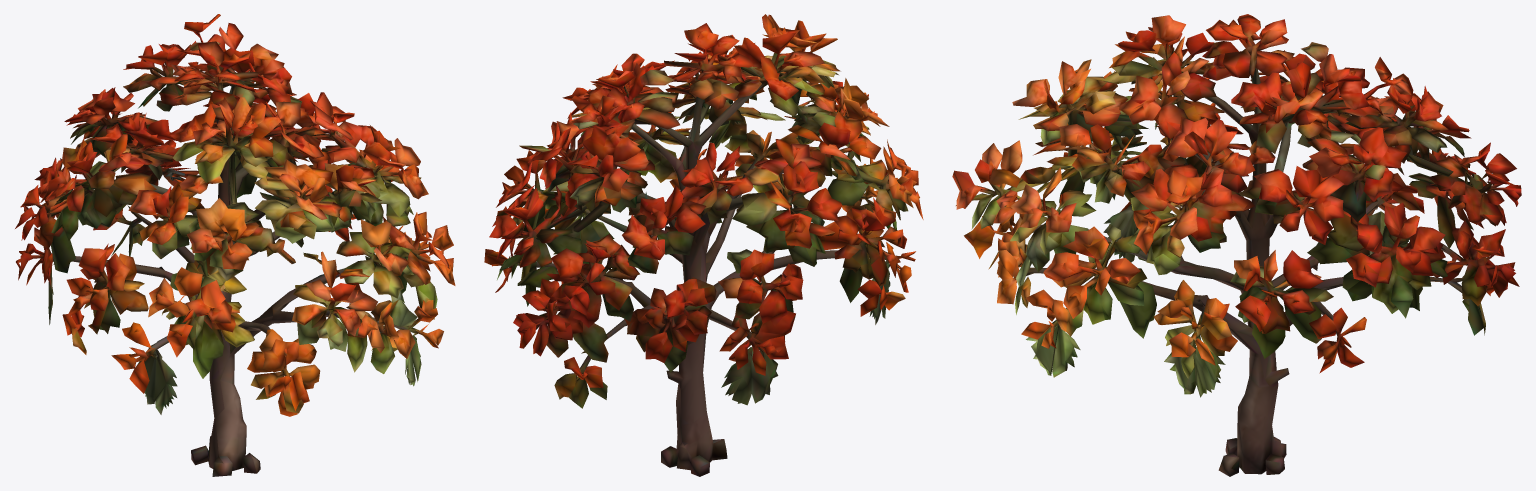
Rendered from flame-near.glb.
3 renders of one model, left to right at view 1: azimuth 30°, elevation 25°; view 2: azimuth 150°, elevation 25°; view 3: azimuth 270°, elevation 25°, orthographic. The views are drawn at different scales.
Parts seen in each view (by area): view 1: tripo_node_4a1fcb72; view 2: tripo_node_4a1fcb72; view 3: tripo_node_4a1fcb72.
Part boxes in pixels (bbox=[...]): tripo_node_4a1fcb72: bbox=[15, 14, 455, 476]; tripo_node_4a1fcb72: bbox=[484, 14, 923, 476]; tripo_node_4a1fcb72: bbox=[952, 14, 1521, 476].
Size of the model in its own units: 8.64 by 9.5 by 11.06.
1 material, 1 textured.
